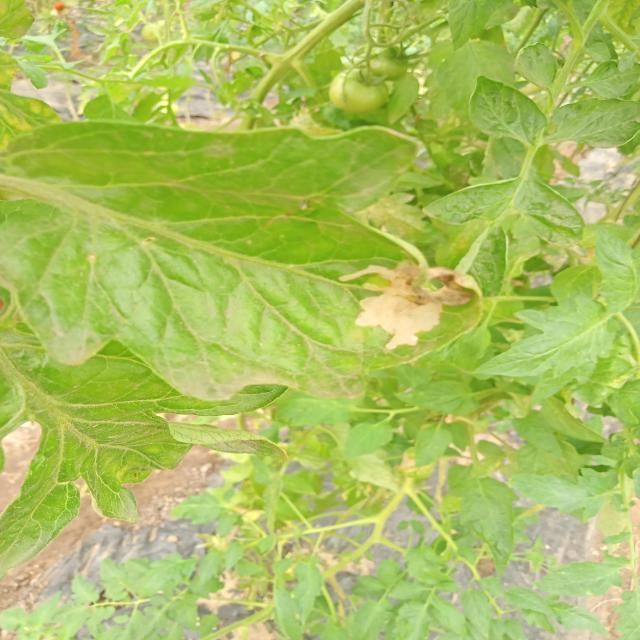Tuta absoluta: (352, 289, 442, 356)
